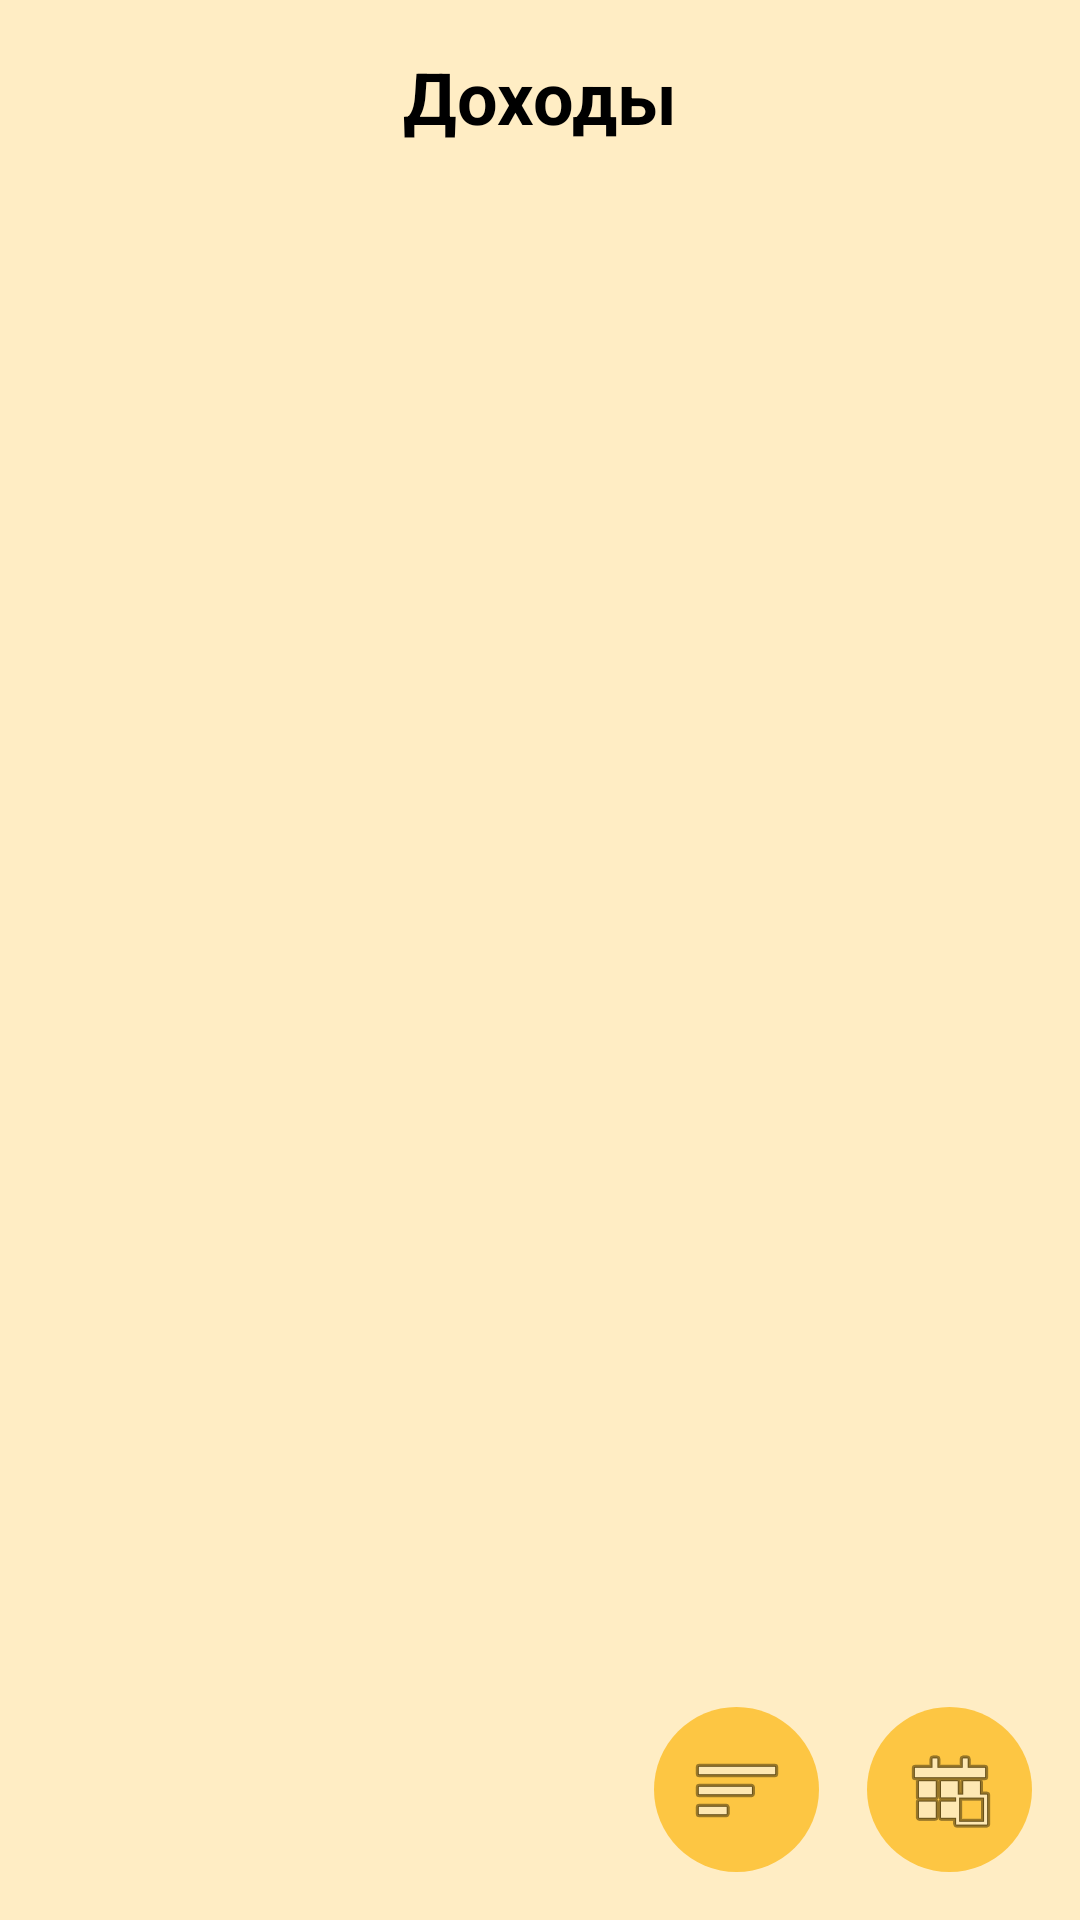

Icons on this 1080x1920 Android screen, each with the point to tap as (x=x, y=y):
sort by size: (x=736, y=1789)
today: (x=949, y=1789)
